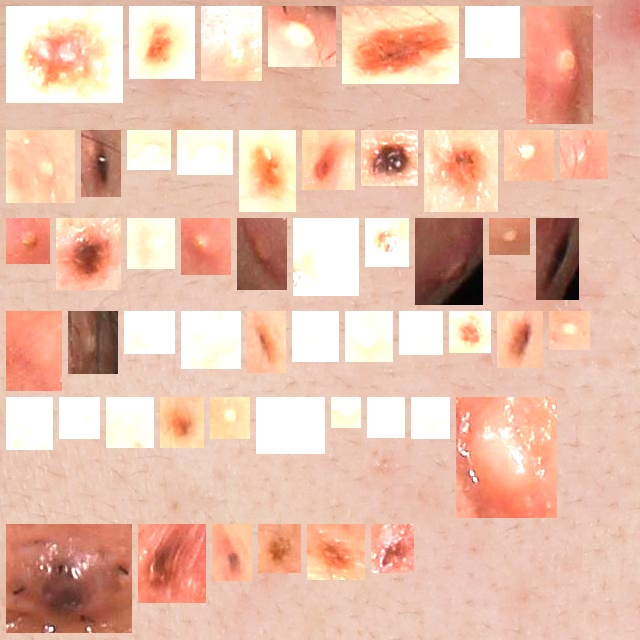hypertrophic_scar: (14, 319, 54, 383)
nevus: (14, 532, 124, 625), (14, 14, 115, 95), (350, 14, 451, 76), (432, 138, 490, 204), (146, 532, 198, 595), (137, 14, 187, 71), (64, 226, 113, 282), (247, 138, 288, 204), (544, 226, 571, 292), (315, 532, 357, 572), (369, 138, 410, 178), (310, 138, 347, 182), (505, 319, 535, 360), (89, 138, 113, 189), (255, 319, 278, 365), (220, 532, 244, 573), (168, 405, 196, 440), (373, 226, 401, 259), (266, 532, 293, 565), (379, 532, 406, 565), (457, 319, 483, 345)
pustule: (464, 405, 549, 510), (534, 14, 585, 116), (423, 226, 475, 297), (301, 226, 351, 288), (14, 138, 67, 195), (209, 14, 254, 73), (276, 14, 328, 59), (264, 405, 317, 446), (245, 226, 279, 282), (189, 319, 233, 361), (76, 319, 110, 366), (473, 14, 512, 50), (189, 226, 223, 267), (512, 138, 546, 173), (185, 138, 225, 167), (14, 405, 45, 442), (135, 226, 167, 261), (353, 319, 385, 354), (114, 405, 146, 440), (300, 319, 331, 354), (568, 138, 600, 171), (132, 319, 167, 346), (14, 226, 42, 256), (407, 319, 435, 347), (135, 138, 163, 162), (67, 405, 92, 431), (218, 405, 242, 431), (419, 405, 442, 431), (557, 319, 582, 342), (375, 405, 397, 430), (497, 226, 522, 247), (339, 405, 353, 420)
